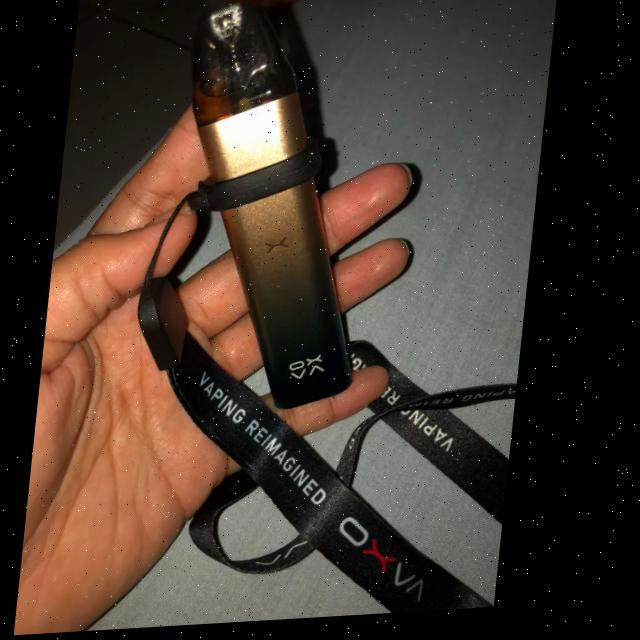vape: (163, 0, 397, 421)
